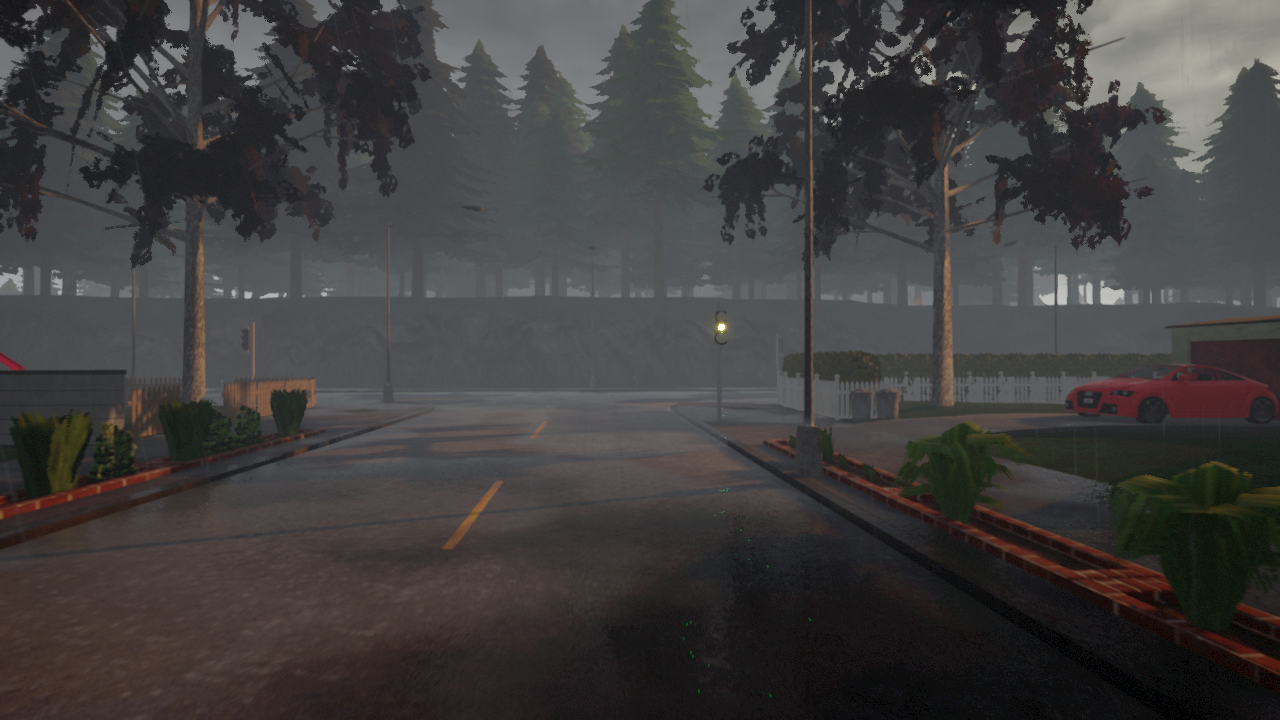yellow: (714, 310, 729, 347)
